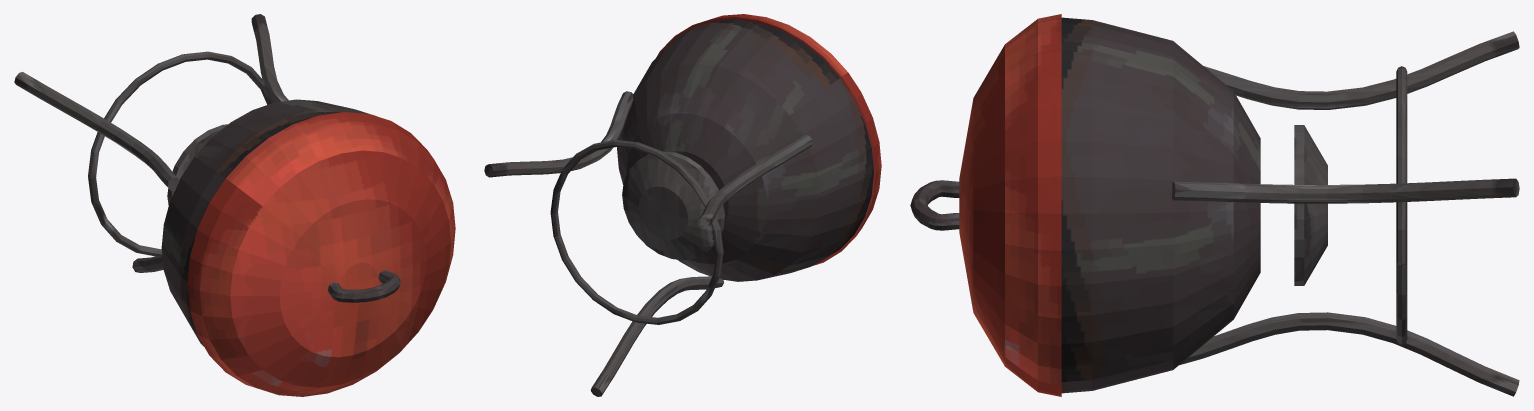
File: pz_barbecue_charcoal.obj
3 renders of one model, left to right at view 1: azimuth 30°, elevation 25°; view 2: azimuth 150°, elevation 25°; view 3: azimuth 270°, elevation 25°, orthographic. The views are drawn at different scales.
Parts seen in each view (by area): view 1: pz_barbecue_charcoal_|_red_domed_kettle_lid, pz_barbecue_charcoal_|_rounded_black_fire_bowl, pz_barbecue_charcoal_|_EDITABLE_lower_round_leg_brace, pz_barbecue_charcoal_|_splayed_tubular_leg.001, pz_barbecue_charcoal_|_splayed_tubular_leg, pz_barbecue_charcoal_|_EDITABLE_bowed_kettle_handle, pz_barbecue_charcoal_|_ash_catcher, pz_barbecue_charcoal_|_splayed_tubular_leg.002; view 2: pz_barbecue_charcoal_|_rounded_black_fire_bowl, pz_barbecue_charcoal_|_ash_catcher, pz_barbecue_charcoal_|_EDITABLE_lower_round_leg_brace, pz_barbecue_charcoal_|_red_domed_kettle_lid, pz_barbecue_charcoal_|_splayed_tubular_leg.002, pz_barbecue_charcoal_|_splayed_tubular_leg, pz_barbecue_charcoal_|_splayed_tubular_leg.001; view 3: pz_barbecue_charcoal_|_rounded_black_fire_bowl, pz_barbecue_charcoal_|_red_domed_kettle_lid, pz_barbecue_charcoal_|_splayed_tubular_leg, pz_barbecue_charcoal_|_splayed_tubular_leg.002, pz_barbecue_charcoal_|_splayed_tubular_leg.001, pz_barbecue_charcoal_|_ash_catcher, pz_barbecue_charcoal_|_EDITABLE_lower_round_leg_brace, pz_barbecue_charcoal_|_EDITABLE_bowed_kettle_handle.
Part boxes in pixels (x1=…): pz_barbecue_charcoal_|_red_domed_kettle_lid: x1=187, y1=112, x2=455, y2=396; pz_barbecue_charcoal_|_rounded_black_fire_bowl: x1=161, y1=99, x2=376, y2=346; pz_barbecue_charcoal_|_EDITABLE_lower_round_leg_brace: x1=88, y1=51, x2=271, y2=257; pz_barbecue_charcoal_|_splayed_tubular_leg.001: x1=14, y1=72, x2=179, y2=191; pz_barbecue_charcoal_|_splayed_tubular_leg: x1=251, y1=14, x2=288, y2=103; pz_barbecue_charcoal_|_EDITABLE_bowed_kettle_handle: x1=327, y1=270, x2=400, y2=302; pz_barbecue_charcoal_|_ash_catcher: x1=167, y1=124, x2=227, y2=205; pz_barbecue_charcoal_|_splayed_tubular_leg.002: x1=132, y1=256, x2=163, y2=272; pz_barbecue_charcoal_|_rounded_black_fire_bowl: x1=617, y1=19, x2=873, y2=281; pz_barbecue_charcoal_|_ash_catcher: x1=622, y1=151, x2=724, y2=260; pz_barbecue_charcoal_|_EDITABLE_lower_round_leg_brace: x1=550, y1=140, x2=723, y2=324; pz_barbecue_charcoal_|_red_domed_kettle_lid: x1=656, y1=14, x2=881, y2=265; pz_barbecue_charcoal_|_splayed_tubular_leg.002: x1=590, y1=276, x2=723, y2=396; pz_barbecue_charcoal_|_splayed_tubular_leg: x1=484, y1=91, x2=633, y2=177; pz_barbecue_charcoal_|_splayed_tubular_leg.001: x1=698, y1=134, x2=812, y2=229; pz_barbecue_charcoal_|_rounded_black_fire_bowl: x1=1061, y1=17, x2=1260, y2=393; pz_barbecue_charcoal_|_red_domed_kettle_lid: x1=959, y1=14, x2=1061, y2=396; pz_barbecue_charcoal_|_splayed_tubular_leg: x1=1172, y1=178, x2=1519, y2=203; pz_barbecue_charcoal_|_splayed_tubular_leg.002: x1=1179, y1=312, x2=1519, y2=396; pz_barbecue_charcoal_|_splayed_tubular_leg.001: x1=1204, y1=31, x2=1519, y2=109; pz_barbecue_charcoal_|_ash_catcher: x1=1294, y1=125, x2=1327, y2=285; pz_barbecue_charcoal_|_EDITABLE_lower_round_leg_brace: x1=1396, y1=66, x2=1407, y2=344; pz_barbecue_charcoal_|_EDITABLE_bowed_kettle_handle: x1=910, y1=180, x2=959, y2=230.
Size of the model in its own units: 0.57 by 0.598 by 0.9059.
3 materials, 3 textured.
